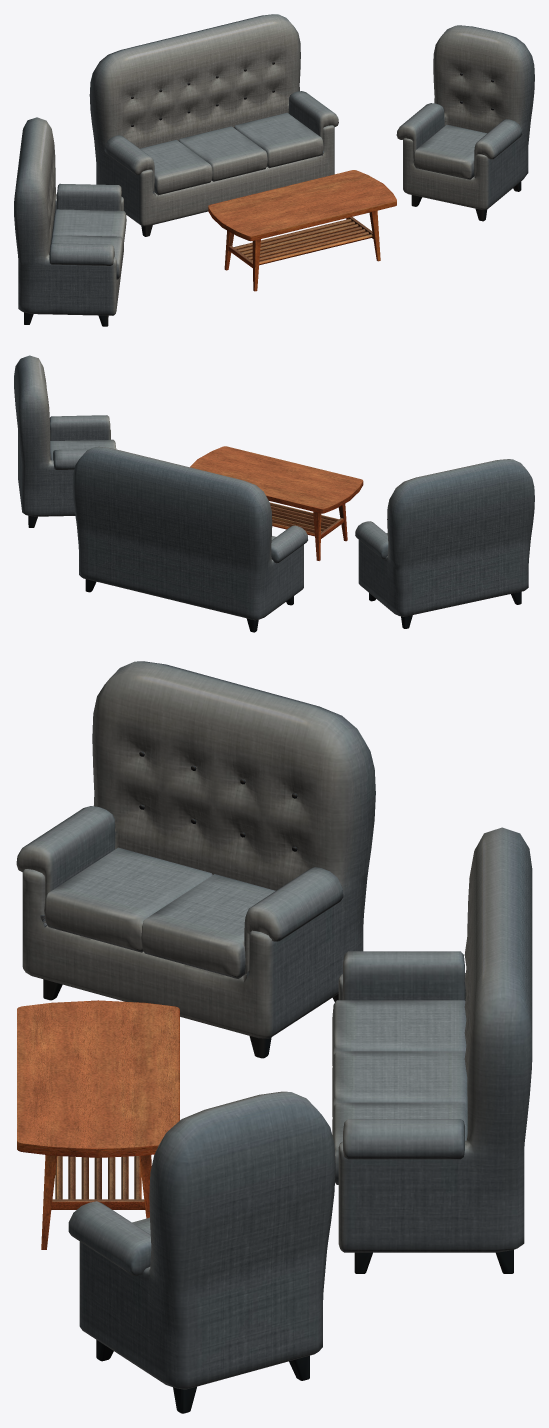
The model's file is sofa2.fbx.
3 renders of one model, top to bottom at view 1: azimuth 30°, elevation 25°; view 2: azimuth 150°, elevation 25°; view 3: azimuth 270°, elevation 25°, orthographic. The views are drawn at different scales.
Visible parts, largest first — view 1: SOFA3, SOFA1, SOFA2, TABLE; view 2: SOFA3, SOFA2, SOFA1, TABLE; view 3: SOFA2, SOFA3, SOFA1, TABLE.
Part boxes in pixels (box(x1,y1,x2,y2)): SOFA3: box(89, 14, 338, 236); SOFA1: box(396, 25, 534, 221); SOFA2: box(14, 117, 126, 326); TABLE: box(208, 170, 396, 291); SOFA3: box(72, 446, 307, 632); SOFA2: box(355, 459, 534, 628); SOFA1: box(14, 355, 116, 527); TABLE: box(190, 446, 363, 560); SOFA2: box(16, 661, 375, 1058); SOFA3: box(332, 827, 532, 1273); SOFA1: box(68, 1091, 335, 1413); TABLE: box(17, 1000, 179, 1249).
Size of the model in its own units: 935 by 259 by 415.
Materials: 2 (2 with a texture image).
